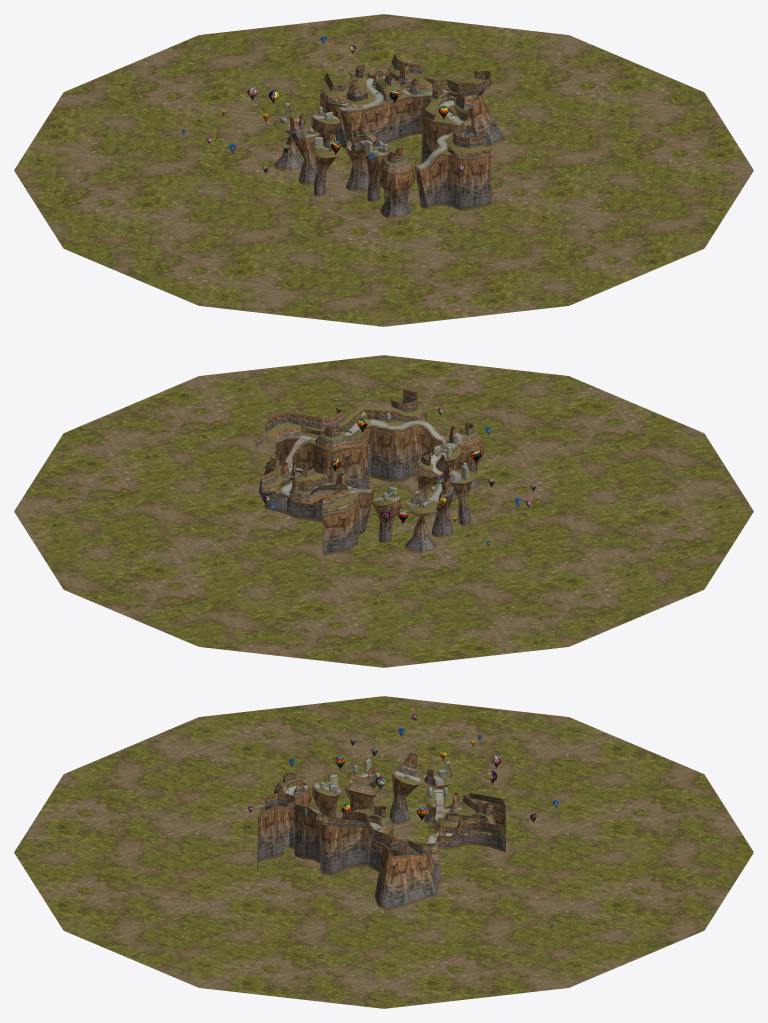
3 views of the same model, one above another, from view 1: azimuth 30°, elevation 25°; view 2: azimuth 150°, elevation 25°; view 3: azimuth 270°, elevation 25° (orthographic).
Parts seen in each view (by area): view 1: polySurface1315, polySurface1219, polySurface1234, HotAirBalloons_polySurface1, polySurface1318; view 2: polySurface1315, polySurface1219, polySurface1234, HotAirBalloons_polySurface1, polySurface1139, polySurface1318; view 3: polySurface1315, polySurface1219, HotAirBalloons_polySurface1, polySurface1139, polySurface1234, polySurface1318.
Boxes of the visible parts, x1,y1,x2,y2 form: polySurface1315: (14, 14, 753, 326); polySurface1219: (273, 54, 504, 219); polySurface1234: (288, 76, 464, 168); HotAirBalloons_polySurface1: (181, 36, 463, 173); polySurface1318: (280, 102, 458, 152); polySurface1315: (14, 355, 753, 667); polySurface1219: (255, 389, 484, 555); polySurface1234: (279, 419, 463, 505); HotAirBalloons_polySurface1: (262, 408, 536, 546); polySurface1139: (261, 410, 461, 513); polySurface1318: (382, 413, 469, 509); polySurface1315: (14, 696, 753, 1008); polySurface1219: (257, 752, 505, 911); HotAirBalloons_polySurface1: (247, 713, 558, 822); polySurface1139: (282, 780, 505, 853); polySurface1234: (285, 770, 479, 843); polySurface1318: (304, 758, 452, 816).
Bounding box in the file's own units: 379304 × 40574 × 379304.
Materials: 13 (13 with a texture image).
